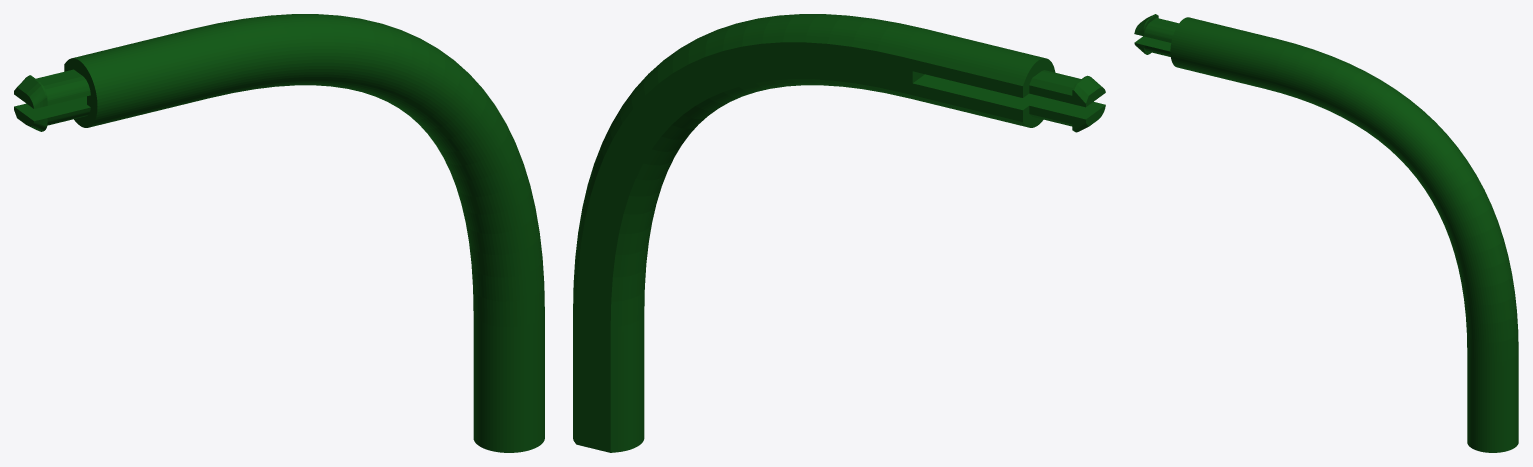
The model's file is stem_3A_90_L.glb.
The picture shows the model from 3 angles, left to right: view 1: azimuth 30°, elevation 25°; view 2: azimuth 150°, elevation 25°; view 3: azimuth 330°, elevation 25°; orthographic projection. The views are drawn at different scales.
Visible parts, largest first — view 1: stem_3A_90_L; view 2: stem_3A_90_L; view 3: stem_3A_90_L.
Part boxes in pixels (x1=…): stem_3A_90_L: x1=14, y1=14, x2=544, y2=452; stem_3A_90_L: x1=573, y1=14, x2=1105, y2=452; stem_3A_90_L: x1=1134, y1=14, x2=1518, y2=452.
Bounding box in the file's own units: 0.0602 × 0.0536 × 0.00666.
